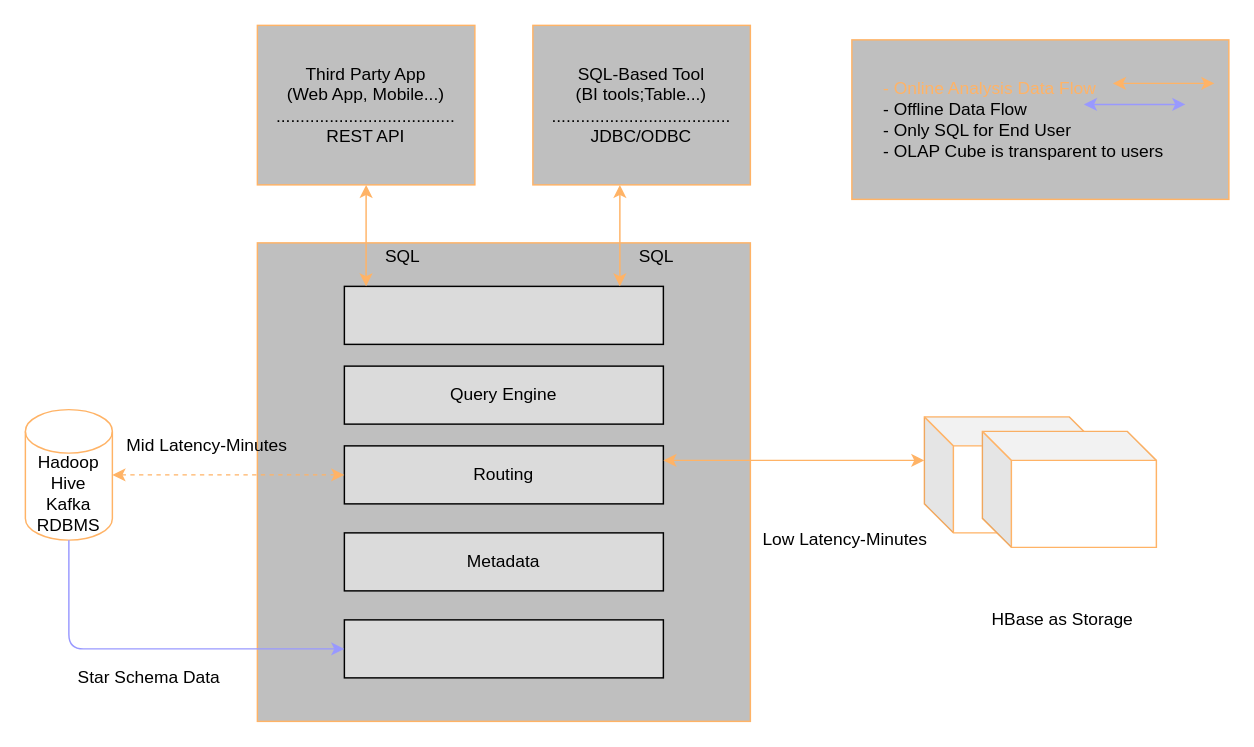
Image size: 1254x747. Some labels were removed from this diagram. Each missing label, with the centre of its shape:
"Cube Build Engine" goes at point 503,648.
"OLAP Cube" goes at point 1068,488.
"REST Server" goes at point 503,314.
